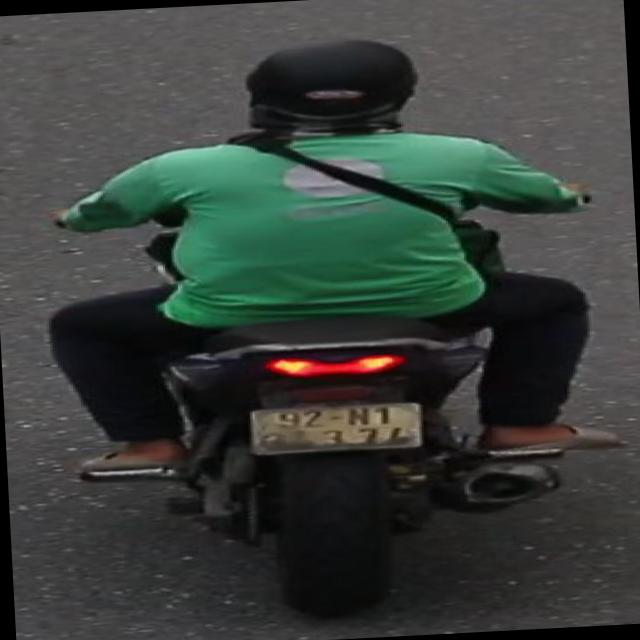LP: (241, 392, 433, 462)
helmet: (230, 27, 432, 151)
